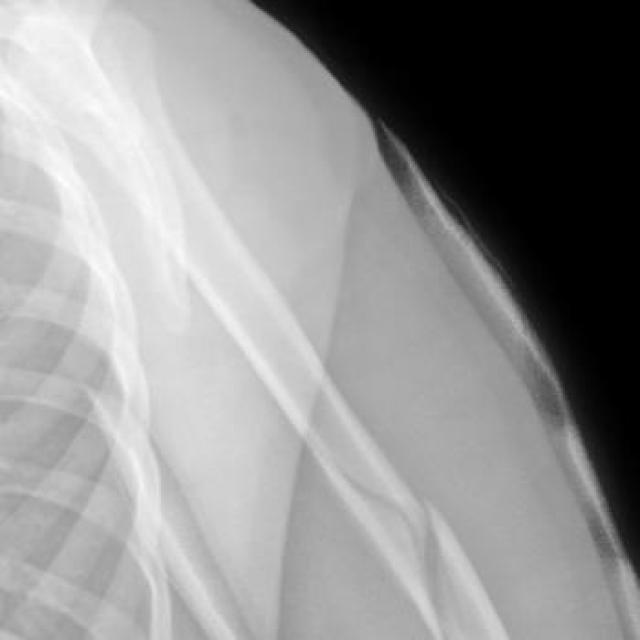Fracture: (402, 495, 452, 628)
